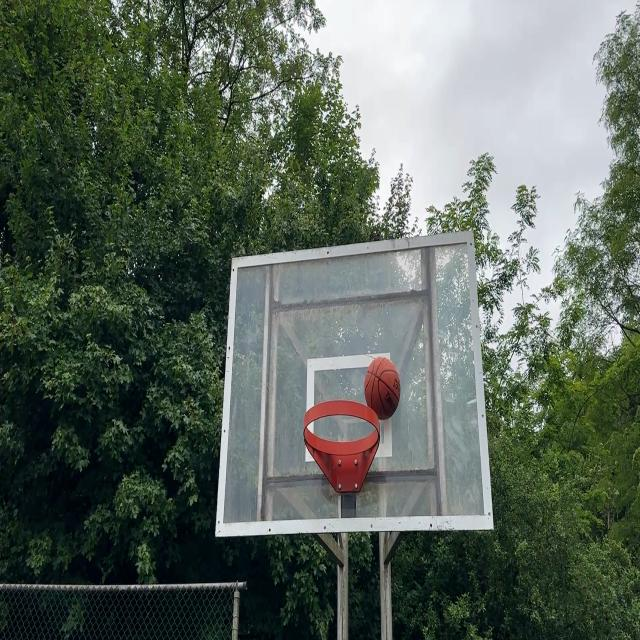rebound_hit: (364, 357, 400, 422)
